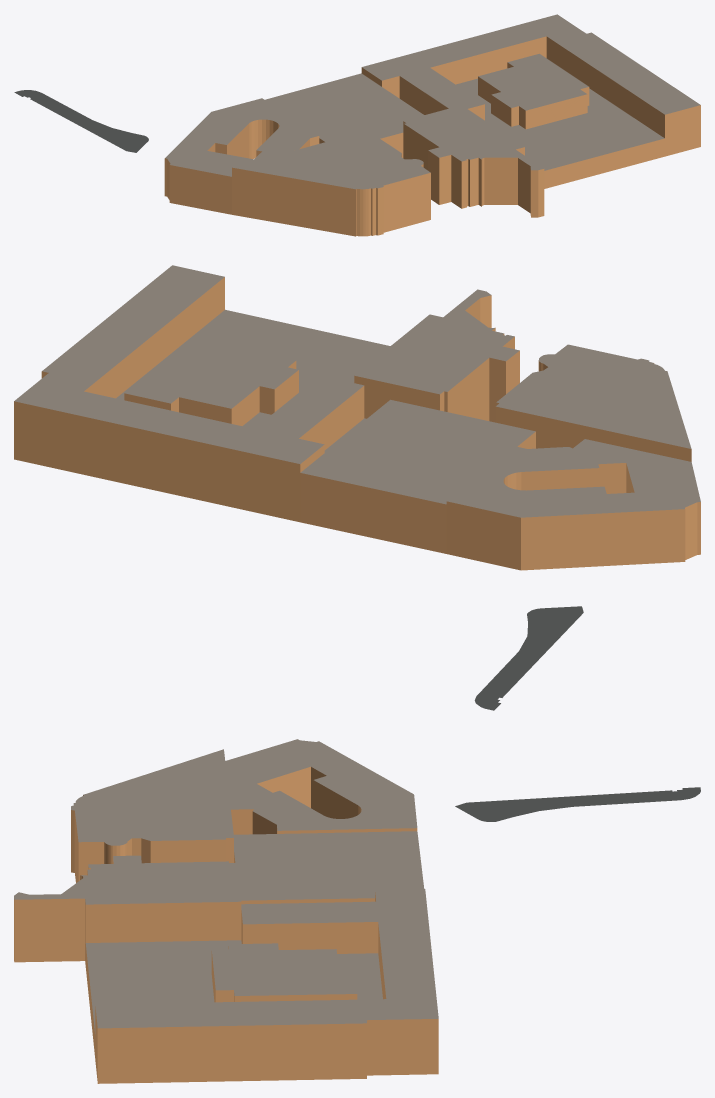
Rendered from site3.glb.
3 views of the same model, one above another, from view 1: azimuth 30°, elevation 25°; view 2: azimuth 150°, elevation 25°; view 3: azimuth 270°, elevation 25° (orthographic). The views are drawn at different scales.
Parts seen in each view (by area): view 1: Site_3.osm_buildings, Site_3.osm_areas_pedestrian; view 2: Site_3.osm_buildings, Site_3.osm_areas_pedestrian; view 3: Site_3.osm_buildings, Site_3.osm_areas_pedestrian.
Part boxes in pixels (x1=…): Site_3.osm_buildings: x1=164, y1=14, x2=700, y2=236; Site_3.osm_areas_pedestrian: x1=14, y1=90, x2=148, y2=152; Site_3.osm_buildings: x1=14, y1=265, x2=700, y2=570; Site_3.osm_areas_pedestrian: x1=474, y1=606, x2=583, y2=710; Site_3.osm_buildings: x1=14, y1=739, x2=438, y2=1083; Site_3.osm_areas_pedestrian: x1=455, y1=787, x2=700, y2=821.
Bounding box in the file's own units: 202 × 19.85 × 198.
